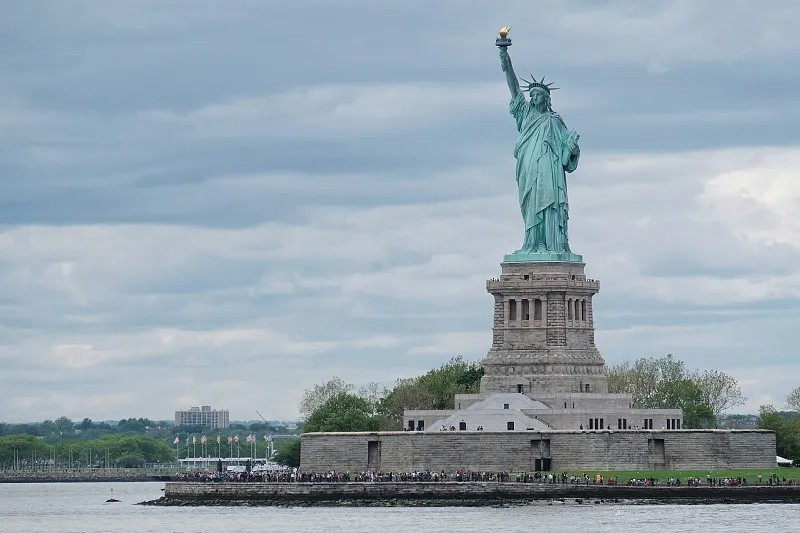SL: (479, 25, 608, 394)
